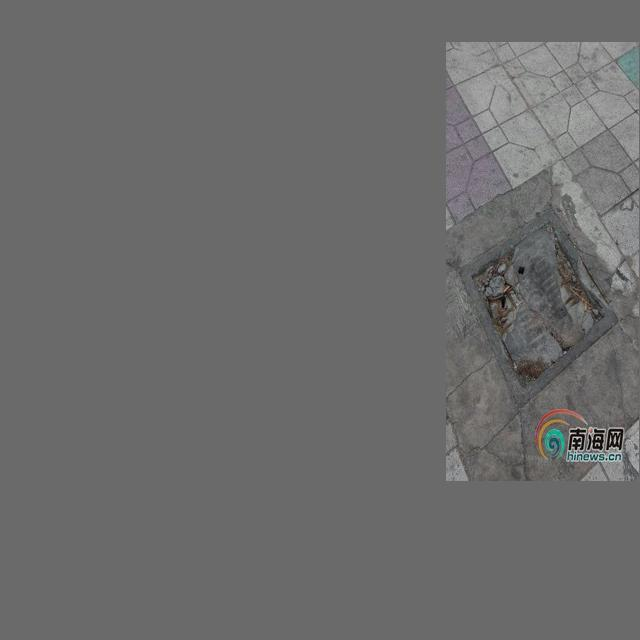broke: (458, 202, 625, 401)
